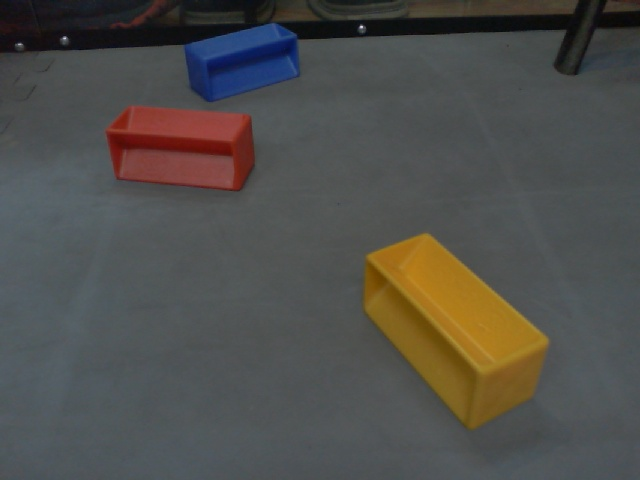BlueSample: (182, 22, 302, 103)
RedSample: (106, 104, 255, 192)
YellowSample: (361, 228, 553, 434)
